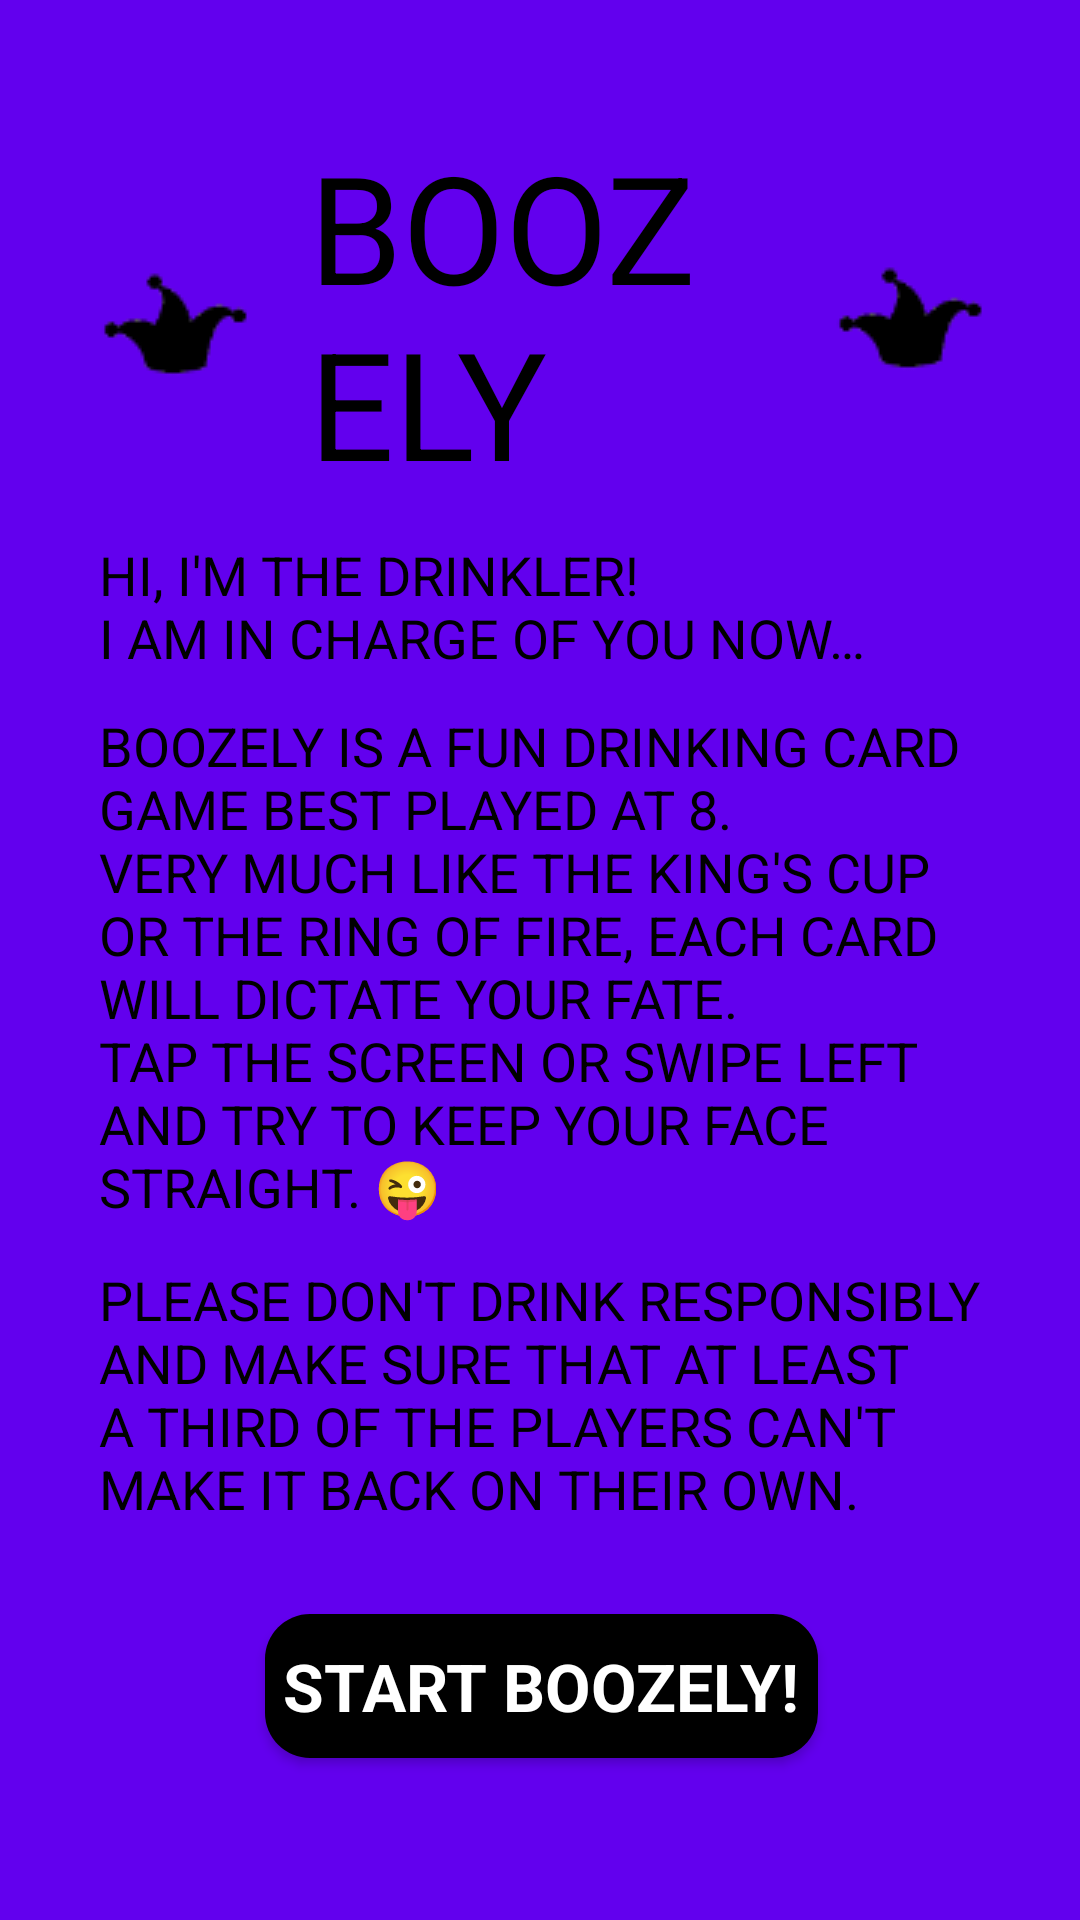

Named icons in this screenshot (1080x1920) and their centers, [x,y]:
The joker icon: [910,317], [175,323]
